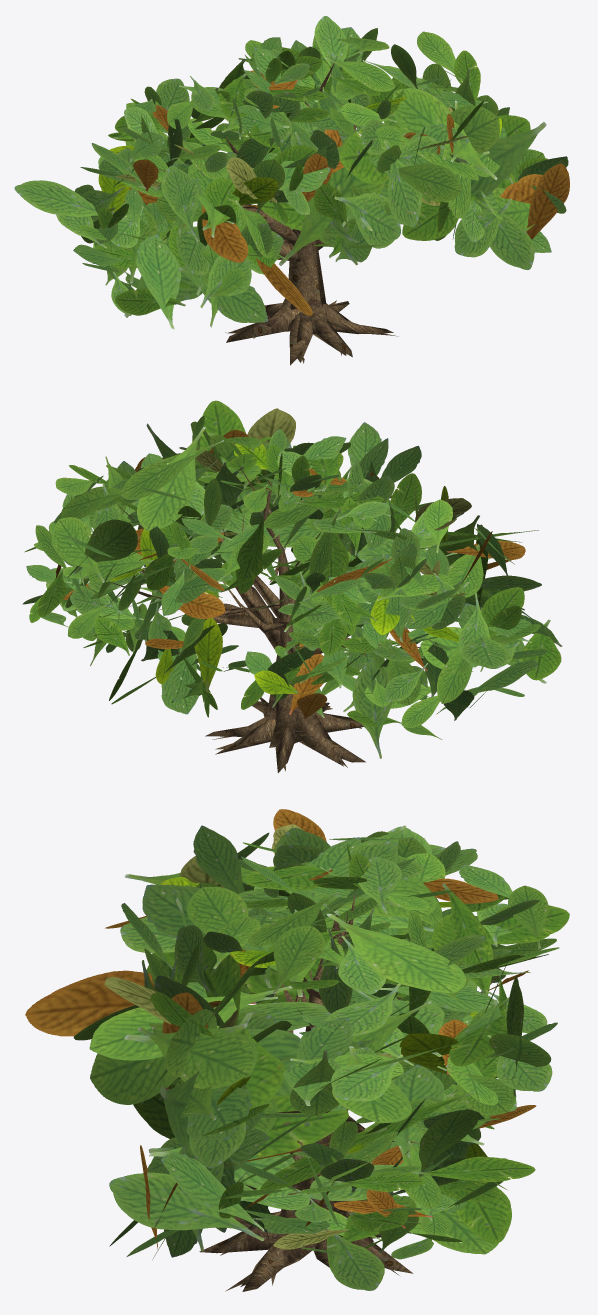
Rendered from forest-tree-distant.glb.
3 renders of one model, top to bottom at view 1: azimuth 30°, elevation 25°; view 2: azimuth 150°, elevation 25°; view 3: azimuth 270°, elevation 25°, orthographic. The views are drawn at different scales.
Parts seen in each view (by area): view 1: Small Ketapang | branched trunk and leafy crown; view 2: Small Ketapang | branched trunk and leafy crown; view 3: Small Ketapang | branched trunk and leafy crown.
Boxes of the visible parts, x1,y1,x2,y2 form: Small Ketapang | branched trunk and leafy crown: (14,16,569,365); Small Ketapang | branched trunk and leafy crown: (22,400,562,772); Small Ketapang | branched trunk and leafy crown: (25,809,569,1291).
Size of the model in its own units: 25.38 by 13.86 by 18.22.
2 materials, 2 textured.
